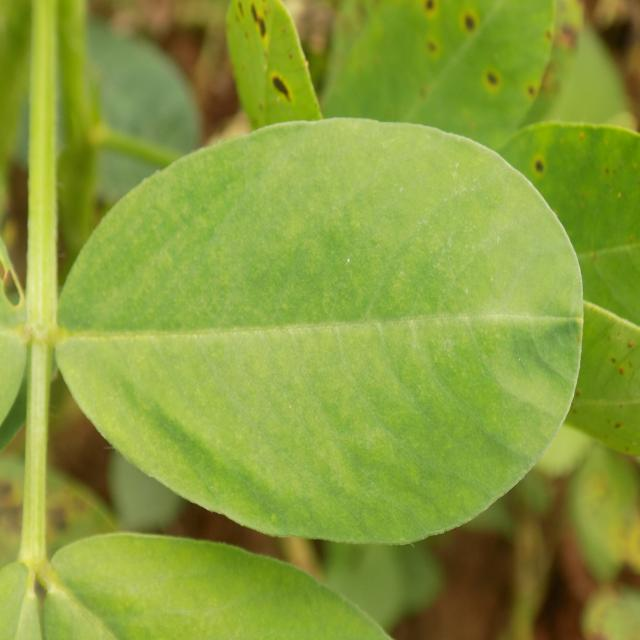Ground nut_healthy: (52, 118, 586, 541)
